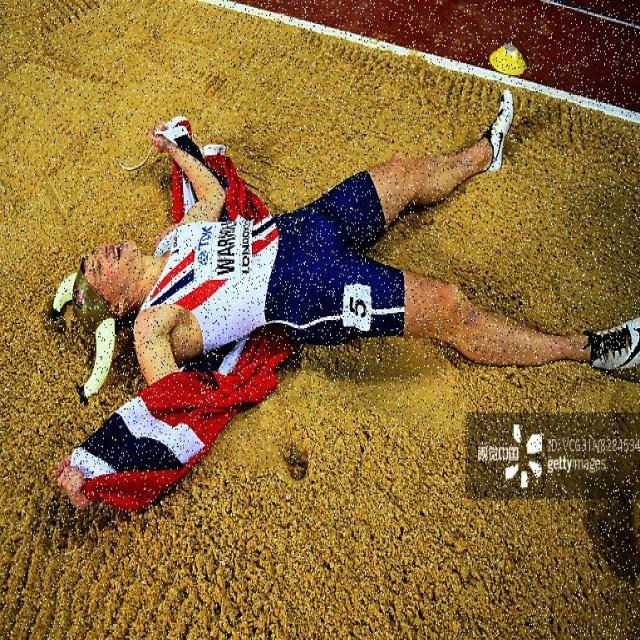fall: (62, 128, 637, 412)
